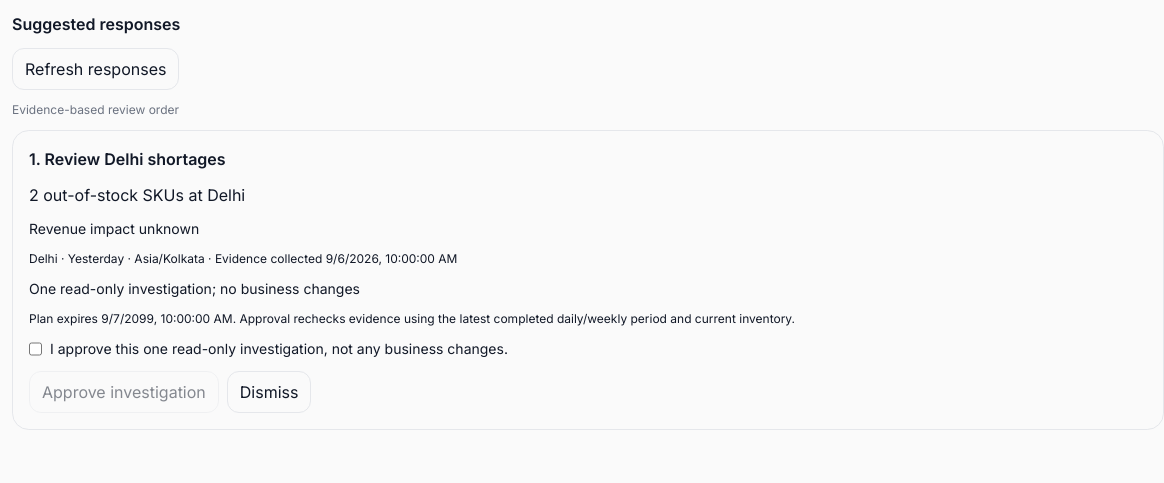
human response approval › keeps a failed approval retryable and never claims it succeeded
Click the checkbox: (36,349) [29, 339, 42, 359]
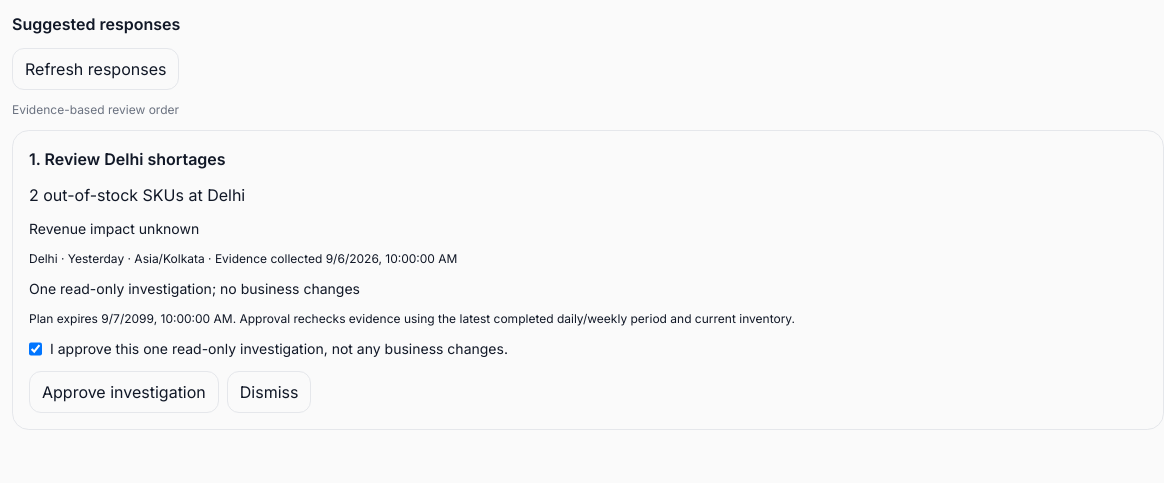
Click the button "Approve investigation": (124,392) [29, 371, 219, 413]
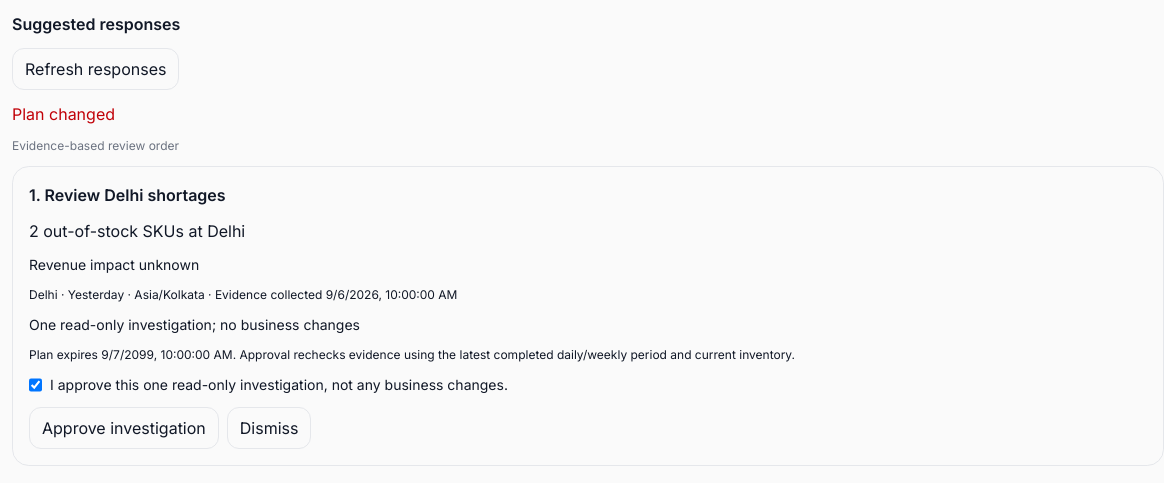
Result: the text "Plan changed" is shown at [12, 104, 115, 124]
